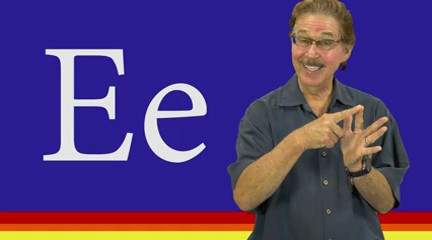E: (296, 103, 391, 174)
